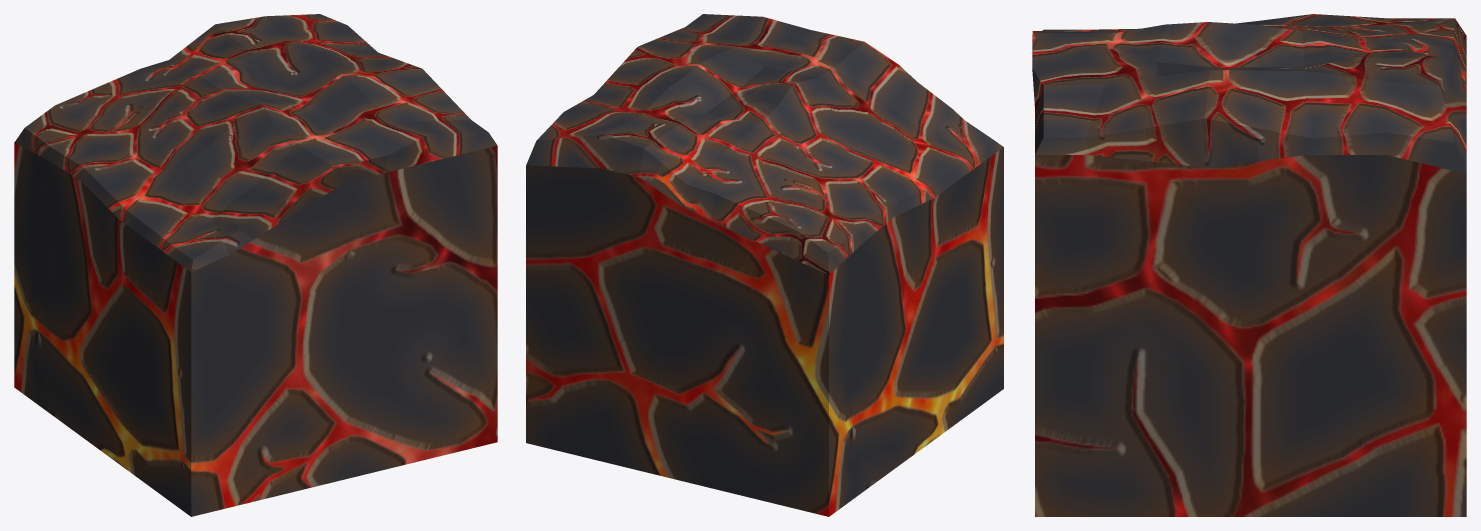
Rendered from VolcanicSlope.fbx.
The picture shows the model from 3 angles, left to right: view 1: azimuth 30°, elevation 25°; view 2: azimuth 150°, elevation 25°; view 3: azimuth 270°, elevation 25°; orthographic projection. The views are drawn at different scales.
Parts seen in each view (by area): view 1: pCube4; view 2: pCube4; view 3: pCube4.
Boxes of the visible parts, x1,y1,x2,y2 form: pCube4: (14, 14, 497, 516); pCube4: (526, 14, 1003, 516); pCube4: (1032, 14, 1466, 516).
Bounding box in the file's own units: 1 × 1.03 × 1.01.
